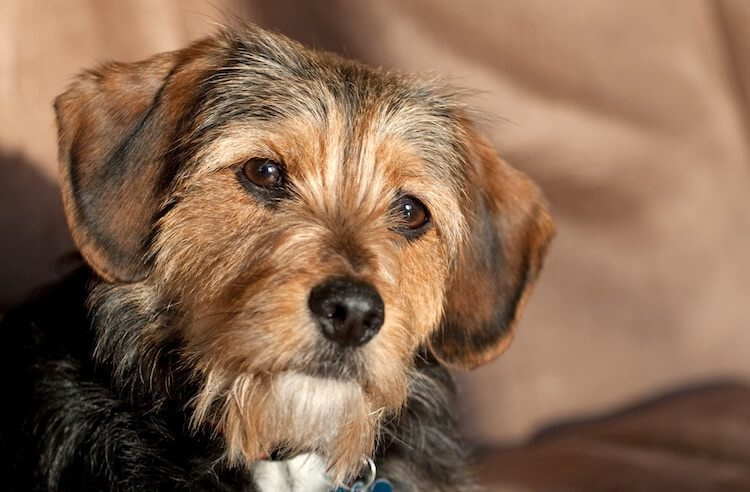dog: (42, 18, 558, 492)
